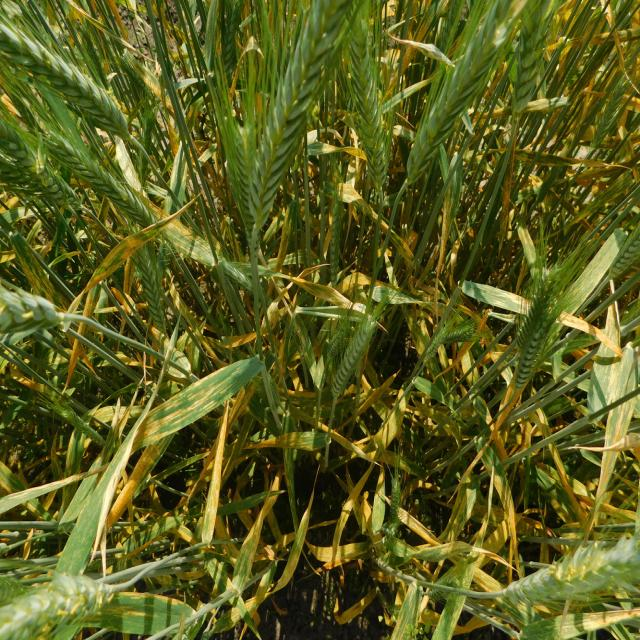wheat-yellowrust: (90, 405, 151, 562), (130, 367, 227, 453), (271, 468, 318, 594), (107, 438, 168, 528), (330, 464, 373, 567), (233, 496, 277, 589), (546, 439, 586, 527), (13, 464, 110, 500), (493, 468, 524, 579), (204, 401, 228, 536), (434, 184, 456, 325), (420, 542, 520, 572), (557, 310, 620, 357), (359, 388, 406, 450), (73, 260, 123, 314), (384, 30, 455, 67), (500, 121, 519, 257), (279, 275, 353, 307), (589, 451, 618, 531), (95, 234, 148, 271), (159, 192, 203, 233), (571, 610, 640, 636), (445, 488, 477, 542), (398, 508, 444, 545), (340, 183, 379, 226), (604, 395, 638, 444), (118, 376, 144, 440), (242, 431, 317, 453), (334, 588, 377, 625), (167, 220, 209, 256), (187, 377, 230, 411), (273, 207, 292, 272), (486, 291, 533, 313), (247, 573, 269, 619), (481, 518, 508, 554), (117, 592, 179, 606), (139, 193, 170, 221), (473, 567, 506, 592), (322, 144, 368, 161), (333, 543, 366, 563), (304, 542, 333, 562), (106, 605, 154, 617), (373, 470, 385, 514), (390, 611, 408, 640), (607, 303, 620, 343), (66, 428, 76, 476), (397, 237, 415, 261), (229, 334, 256, 350), (200, 400, 223, 418), (136, 221, 160, 235), (271, 470, 284, 489), (404, 583, 416, 602), (493, 300, 509, 308)
